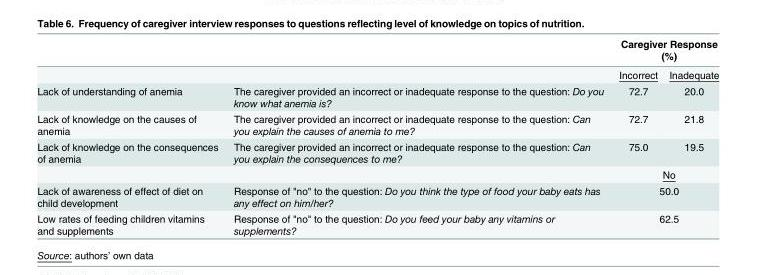table: (36, 37, 718, 236)
table column: (225, 37, 610, 236), (36, 37, 225, 236), (662, 37, 718, 236), (610, 37, 662, 236)
table column header: (36, 37, 718, 82)
table row: (36, 82, 718, 110), (36, 110, 718, 138), (36, 138, 718, 166), (36, 182, 718, 210), (36, 37, 718, 64), (36, 210, 718, 236), (36, 64, 718, 82), (36, 166, 718, 182)
table spanning cell: (36, 138, 225, 182), (610, 182, 718, 210), (610, 37, 718, 64), (610, 210, 718, 236), (610, 166, 718, 182)
